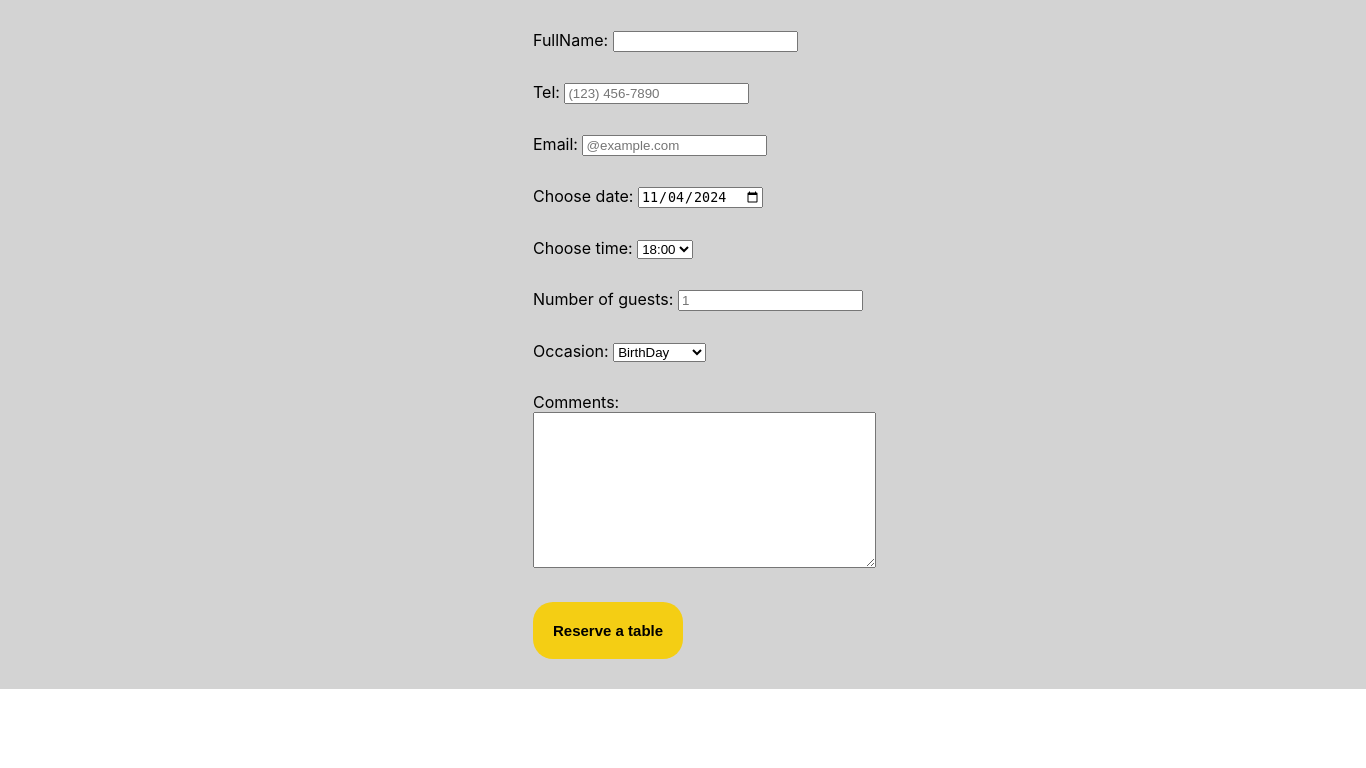
Scenario: show Guests cannot exceed 10 people on the screen
Type "12" into the number field with alt text "numberOfGuests" at [770, 301], box 678,290 -> 863,311
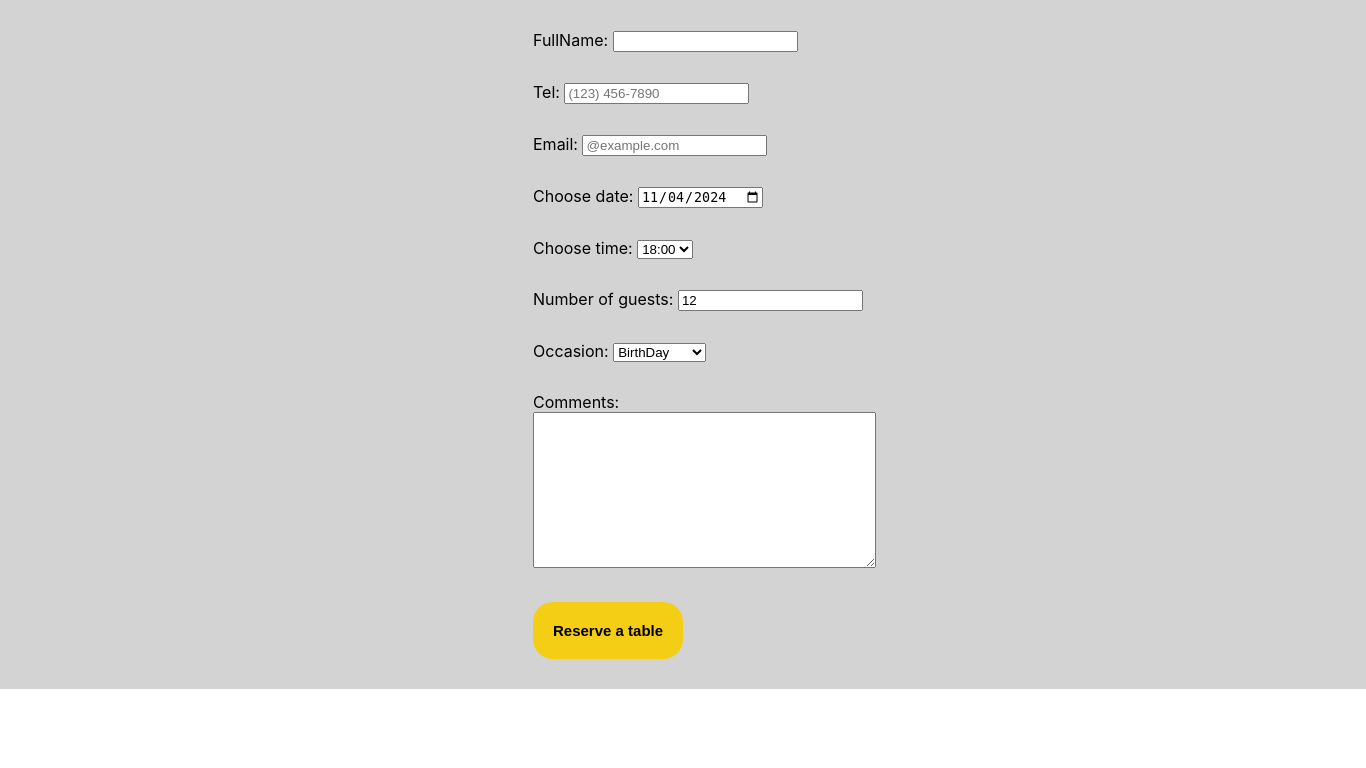
Click the button "Reserve a table" at [608, 631], box 533,602 -> 683,659
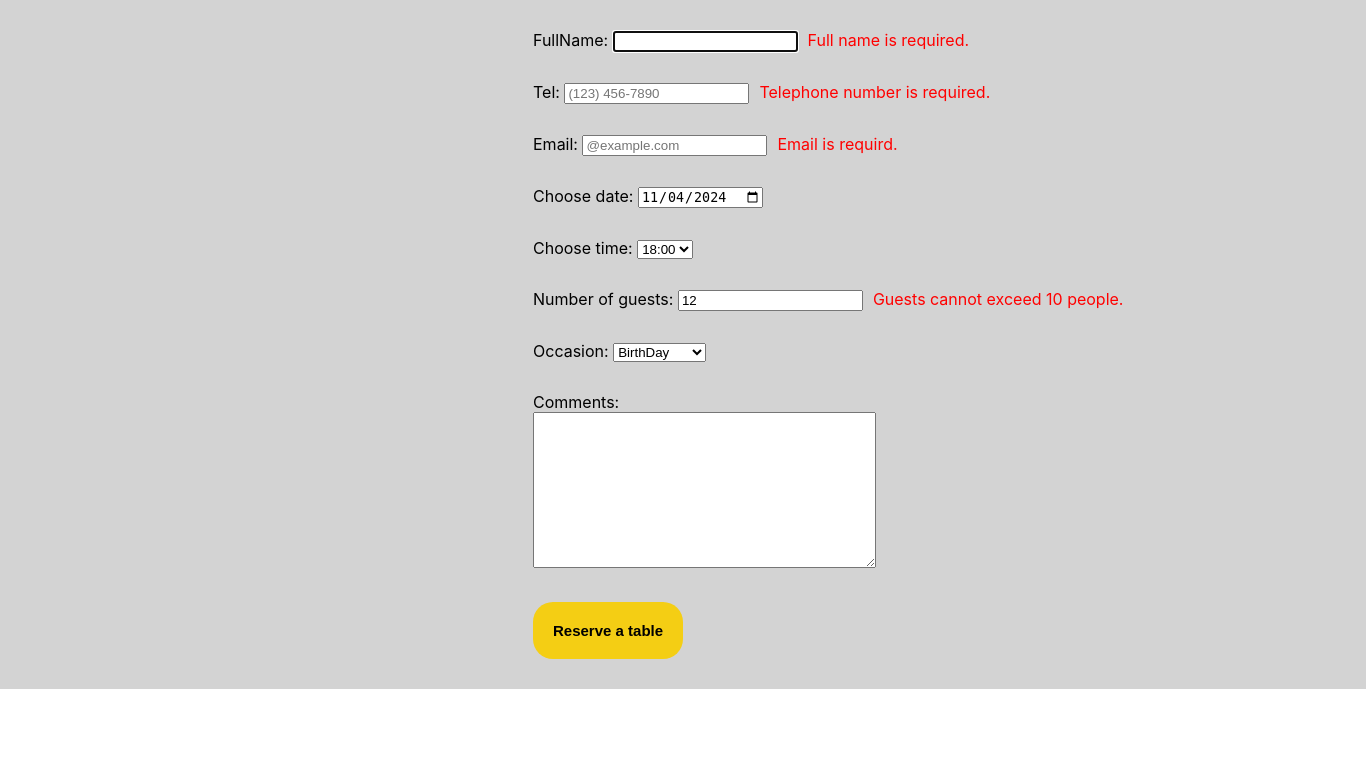
Check: the text "Guests cannot exceed 10 people." is shown, box 873,289 -> 1124,311
